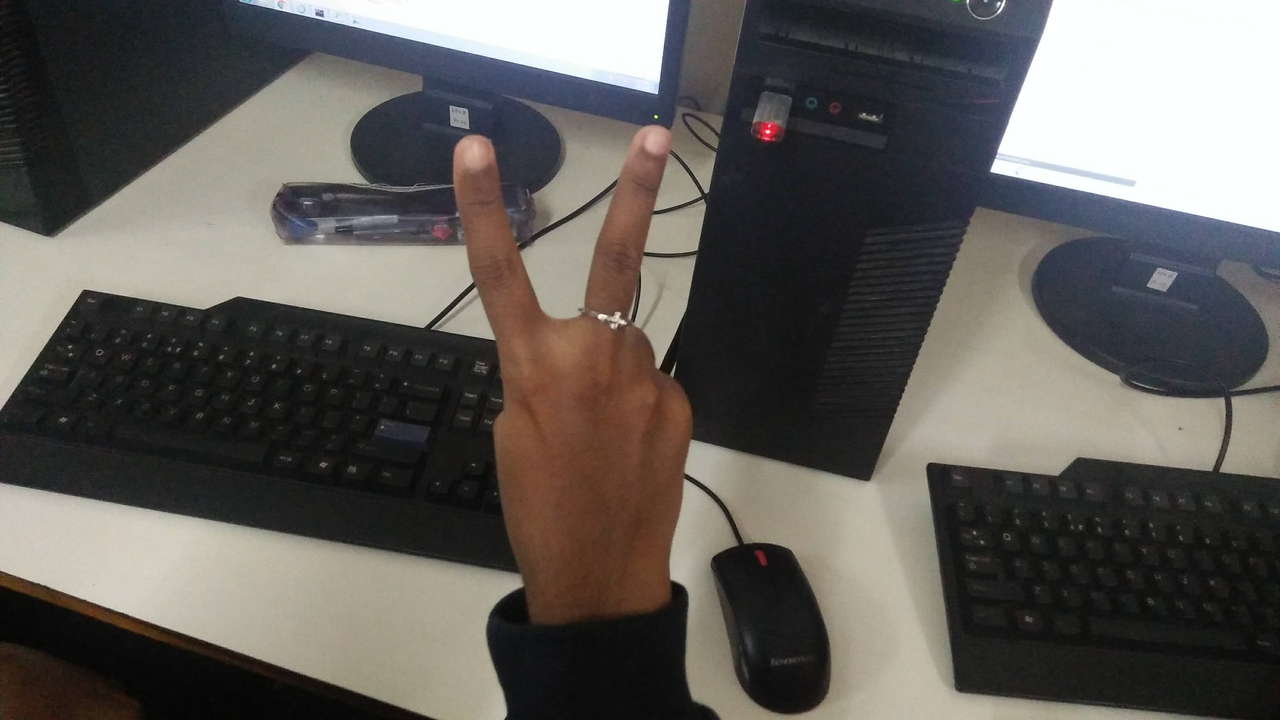fingertip: (616, 110, 678, 170), (444, 126, 502, 184)
